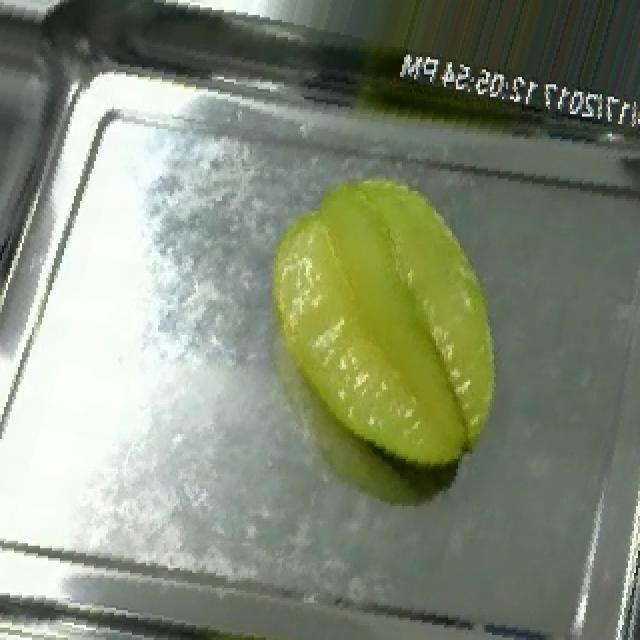fruit: (222, 144, 560, 498)
